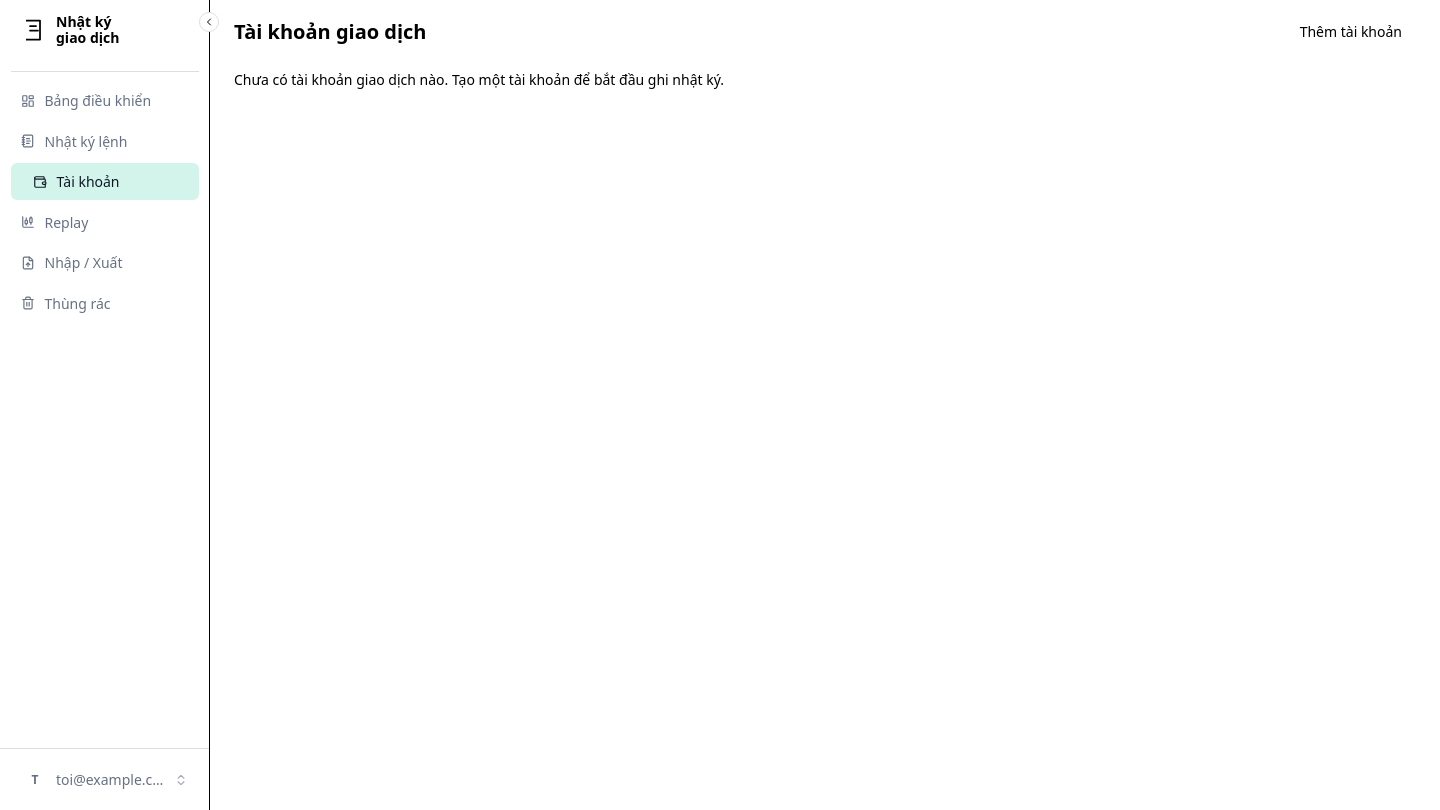
Test: profile popover hiện đủ tuỳ chọn giao diện, ngôn ngữ và đăng xuất
The width and height of the screenshot is (1440, 810).
Click the button with aria-label "Mở tuỳ chọn người dùng" at (104, 780), box top-left (10, 760), bottom-right (198, 800)
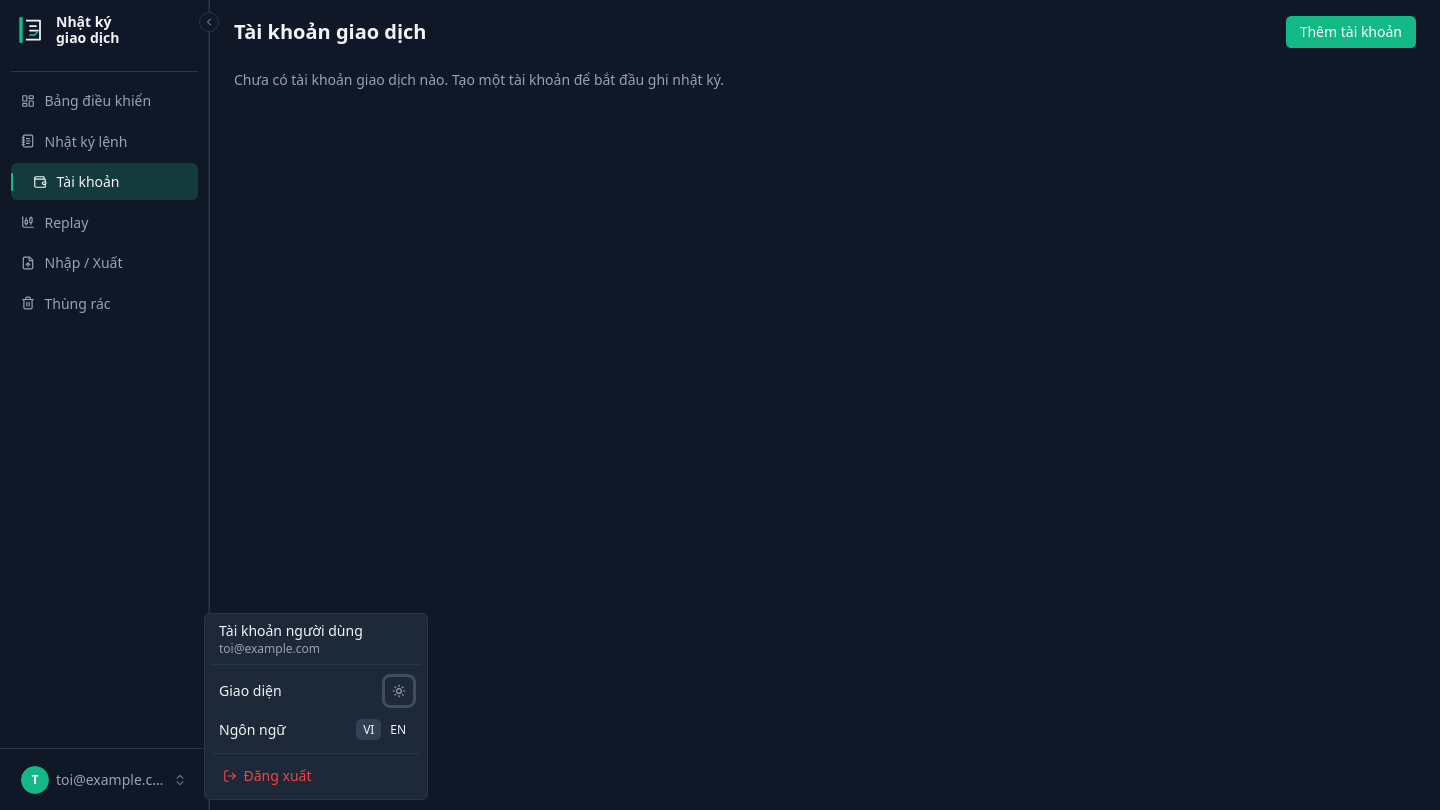
Check: the text "Giao diện" is shown, box top-left (219, 681), bottom-right (282, 701)
Check: the button with aria-label "Tiếng Việt" is shown, box top-left (356, 719), bottom-right (382, 740)
Check: the button with aria-label "English" is shown, box top-left (383, 719), bottom-right (413, 740)
